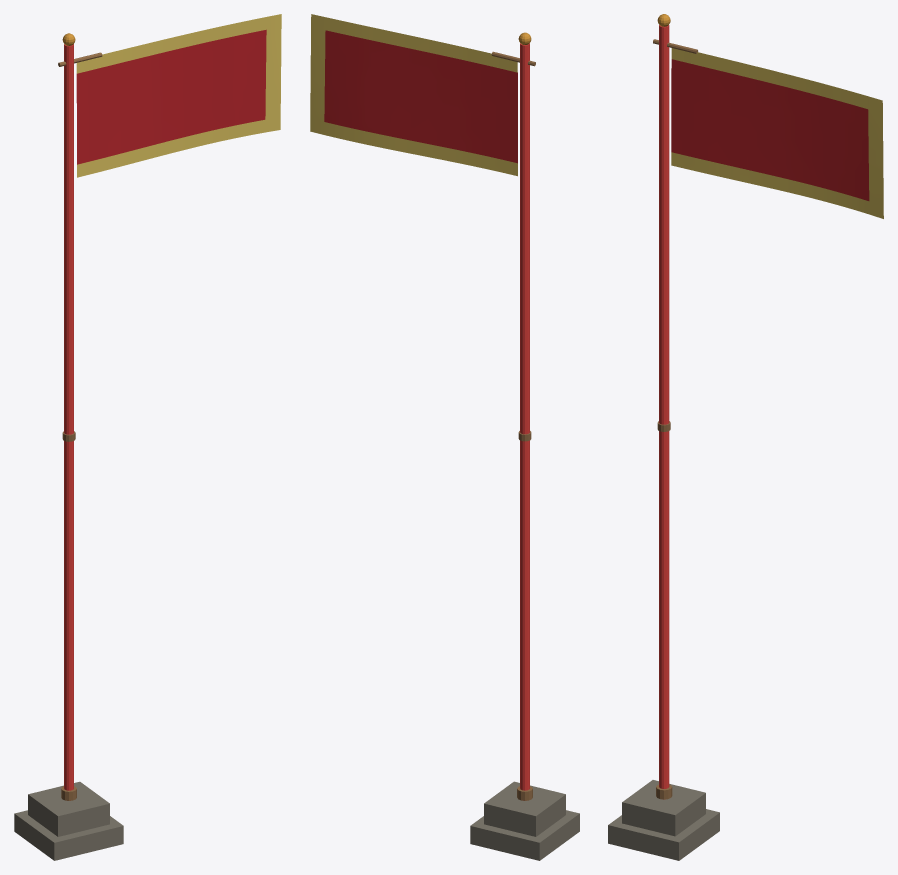
The model's file is lib_lib_prop_pole.glb.
The picture shows the model from 3 angles, left to right: view 1: azimuth 30°, elevation 25°; view 2: azimuth 150°, elevation 25°; view 3: azimuth 330°, elevation 25°; orthographic projection. The views are drawn at different scales.
Visible parts, largest first — view 1: pole_flag, pole_mast; view 2: pole_flag, pole_mast; view 3: pole_flag, pole_mast.
Boxes of the visible parts, <box> form: pole_flag: <box>76,14,281,177</box>; pole_mast: <box>14,33,123,860</box>; pole_flag: <box>310,14,517,176</box>; pole_mast: <box>470,32,579,860</box>; pole_flag: <box>671,48,883,218</box>; pole_mast: <box>608,14,719,860</box>.
Bounding box in the file's own units: 2 × 6.2 × 0.5601.
Materials: 2 (2 with a texture image).
